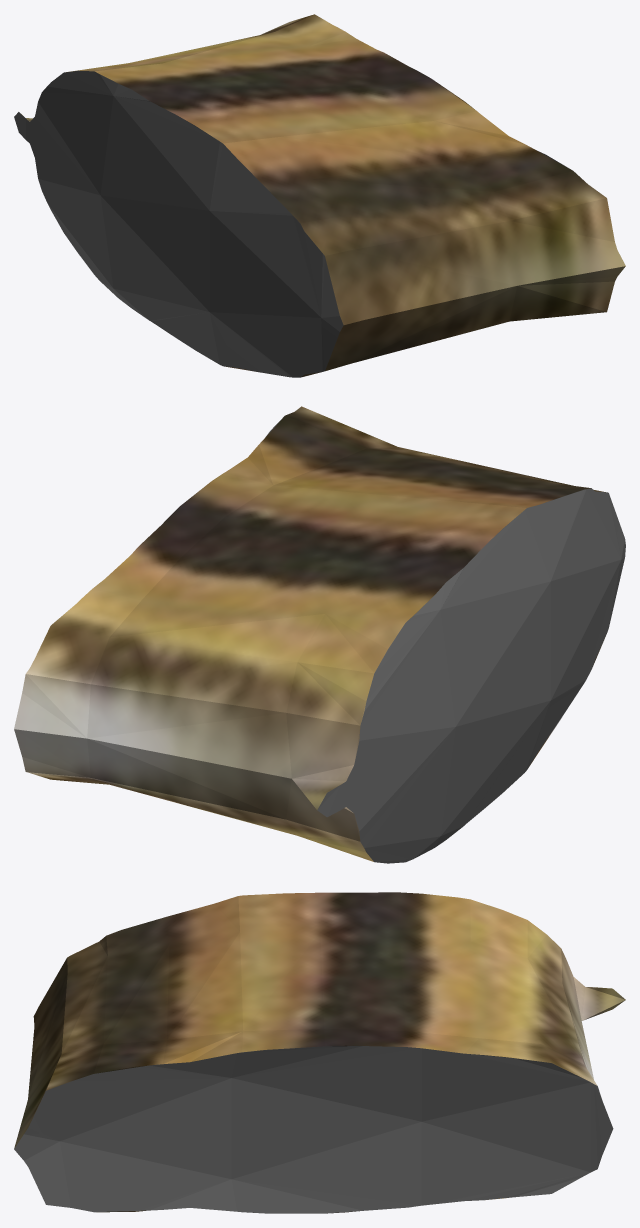
The picture shows the model from 3 angles, top to bottom: view 1: azimuth 30°, elevation 25°; view 2: azimuth 150°, elevation 25°; view 3: azimuth 270°, elevation 25°; orthographic projection. The views are drawn at different scales.
Parts seen in each view (by area): view 1: link_12_visual; view 2: link_12_visual; view 3: link_12_visual.
Part boxes in pixels (x1,y1,x2,y2): link_12_visual: [14, 14, 625, 377]; link_12_visual: [14, 406, 625, 863]; link_12_visual: [14, 892, 625, 1213].
Bounding box in the file's own units: 0.00109 × 0.000728 × 0.0018.
Materials: 1 (1 with a texture image).
